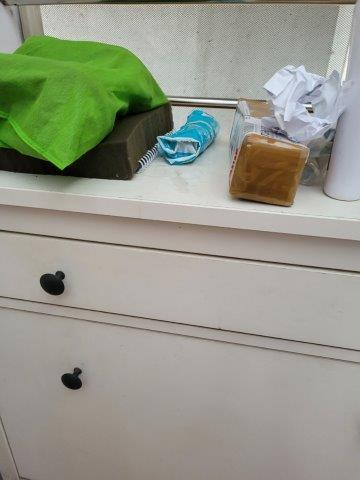kertas: (266, 64, 346, 143)
